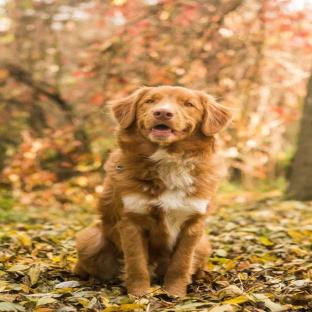Animal: (75, 86, 232, 296)
